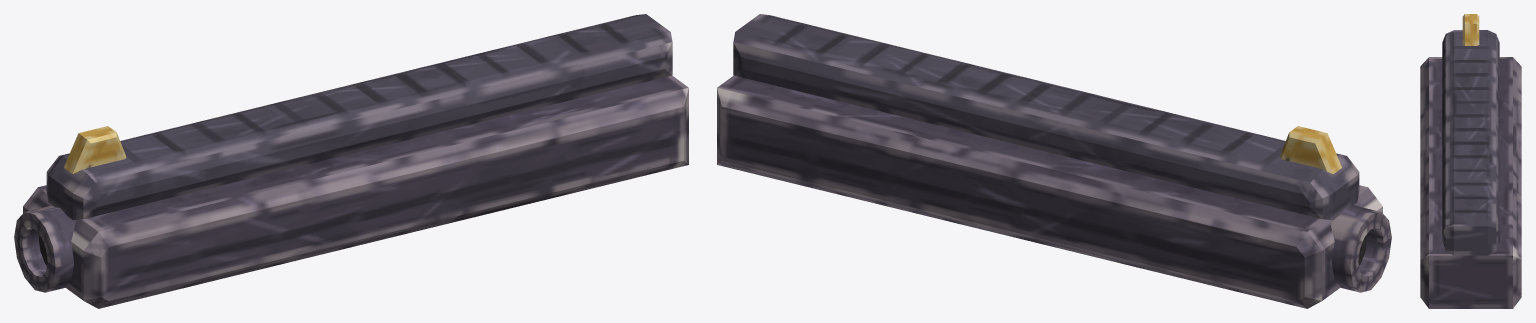
The model's file is pistol_barrel.fbx.
The picture shows the model from 3 angles, left to right: view 1: azimuth 30°, elevation 25°; view 2: azimuth 150°, elevation 25°; view 3: azimuth 270°, elevation 25°; orthographic projection. The views are drawn at different scales.
Visible parts, largest first — view 1: pistol_barrel; view 2: pistol_barrel; view 3: pistol_barrel.
Part boxes in pixels (x1,y1,x2,y2): pistol_barrel: [14, 14, 688, 308]; pistol_barrel: [717, 14, 1391, 308]; pistol_barrel: [1420, 14, 1521, 308].
Size of the model in its own units: 0.6337 by 0.1425 by 0.1294.
